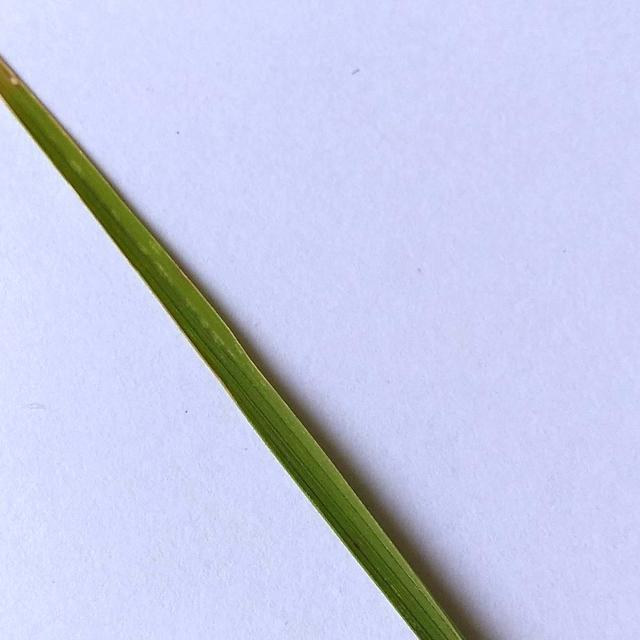Blast: (6, 70, 22, 86)
